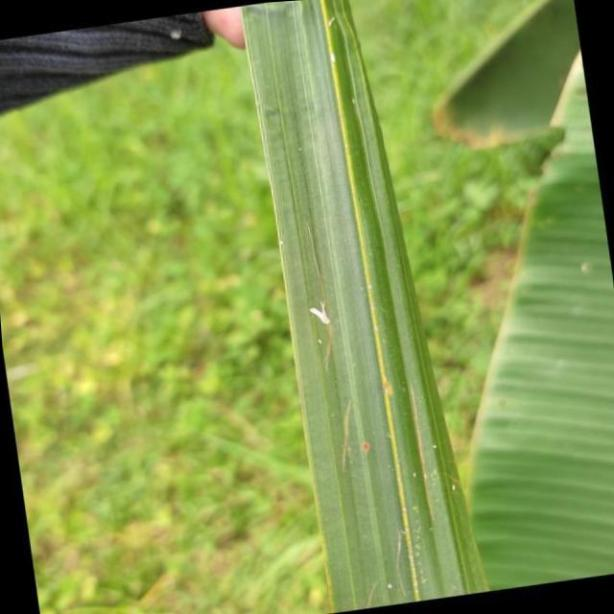Boron: (243, 0, 493, 614)
